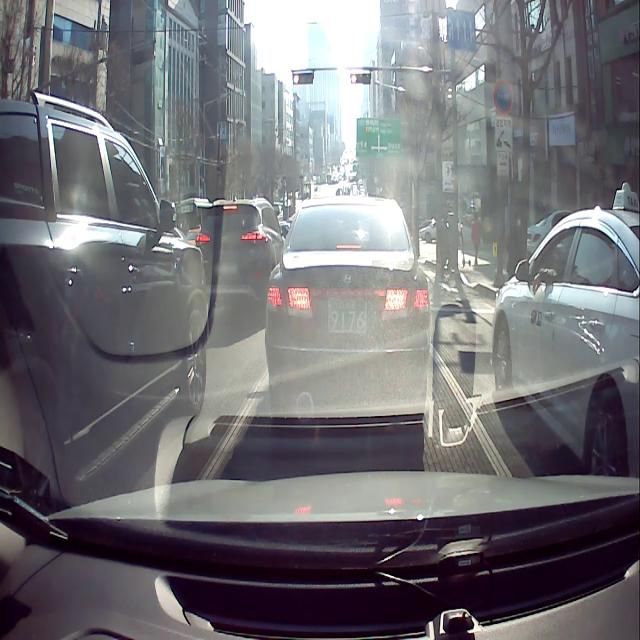Red Light: (292, 72, 300, 84), (350, 74, 358, 84)
